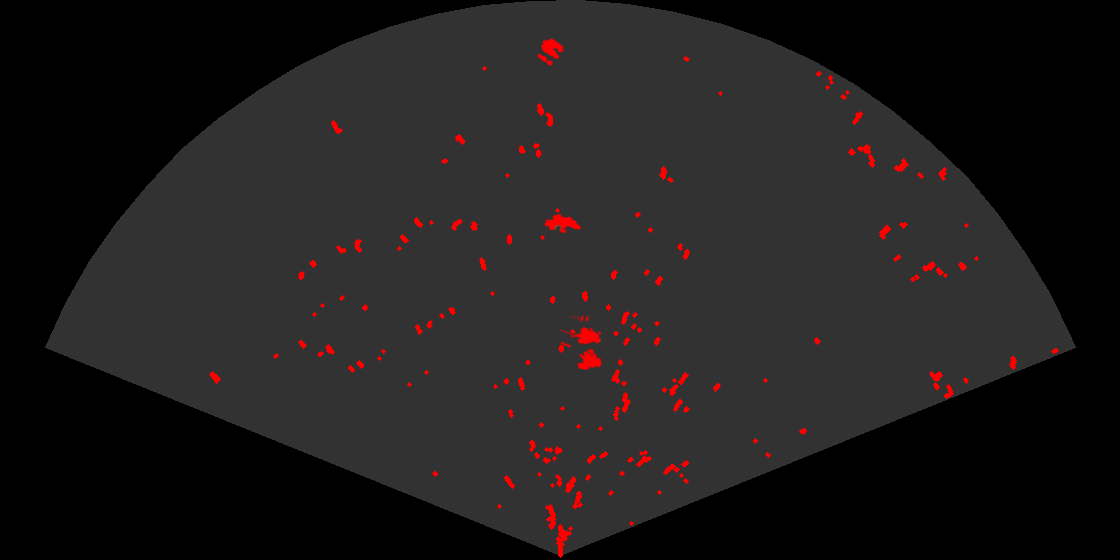AUV: (542, 212, 583, 235)
ball: (536, 37, 565, 67)
cage: (561, 316, 603, 372)
